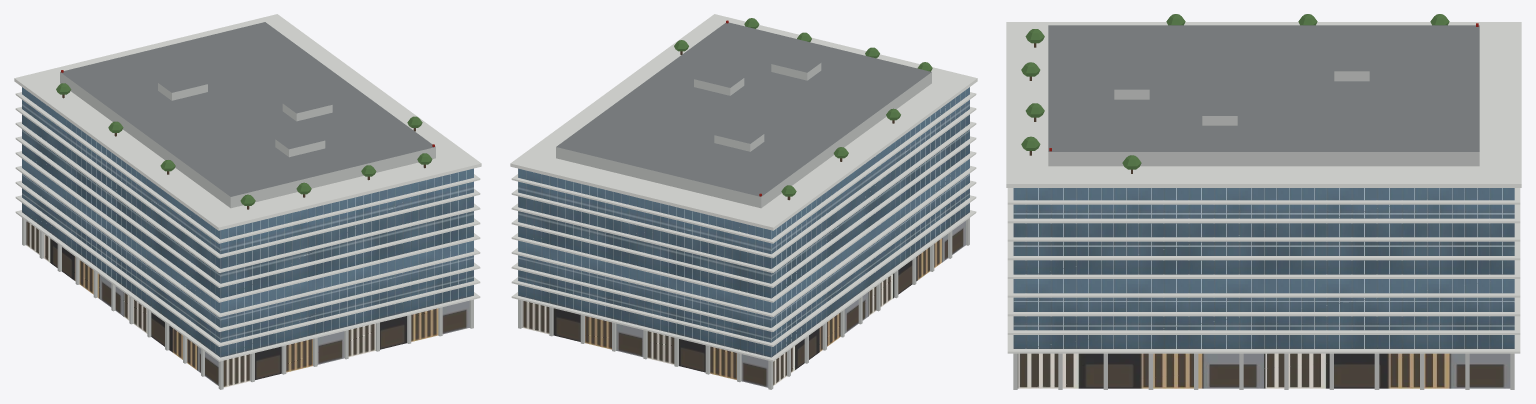
File: ginza_six.glb
The picture shows the model from 3 angles, left to right: view 1: azimuth 30°, elevation 25°; view 2: azimuth 150°, elevation 25°; view 3: azimuth 270°, elevation 25°; orthographic projection. The views are drawn at different scales.
Visible parts, largest first — view 1: ginza_six; view 2: ginza_six; view 3: ginza_six.
Part boxes in pixels (<box>): ginza_six: <box>14,14,481,389</box>; ginza_six: <box>510,14,977,389</box>; ginza_six: <box>1006,14,1521,389</box>.
Size of the model in its own units: 87.19 by 58.51 by 117.
Materials: 2 (2 with a texture image).
